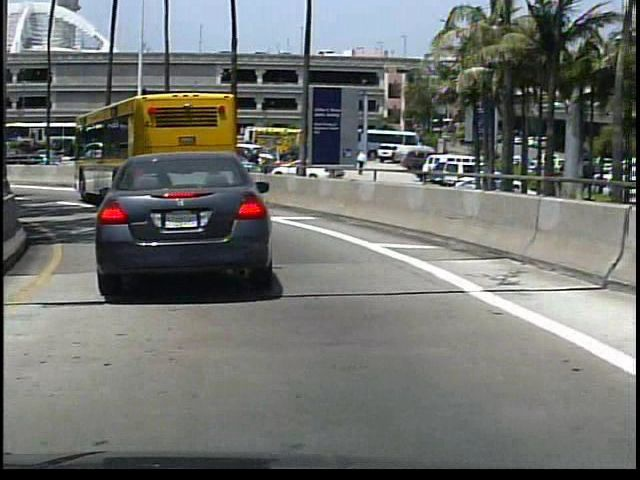person: (352, 147, 367, 178), (247, 147, 260, 179)
